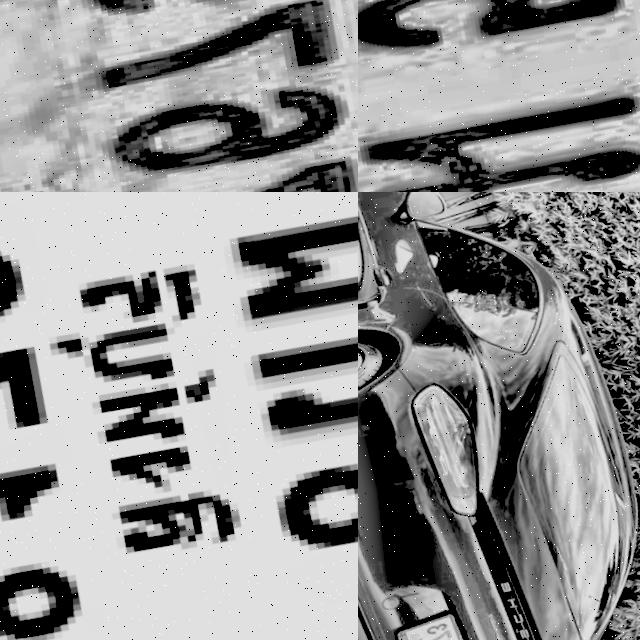license-plate: (0, 192, 358, 640), (0, 0, 358, 192), (358, 0, 640, 192), (393, 596, 502, 640)
